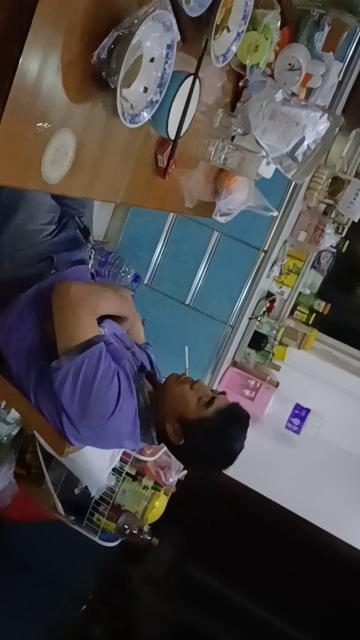Smoking: (186, 346, 188, 376)
